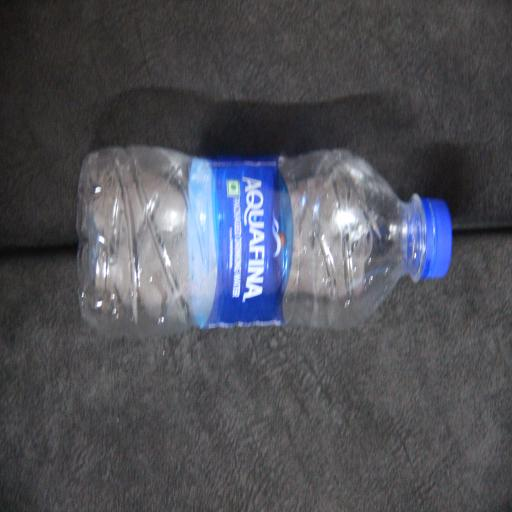Aquafina: (100, 90, 223, 512)
